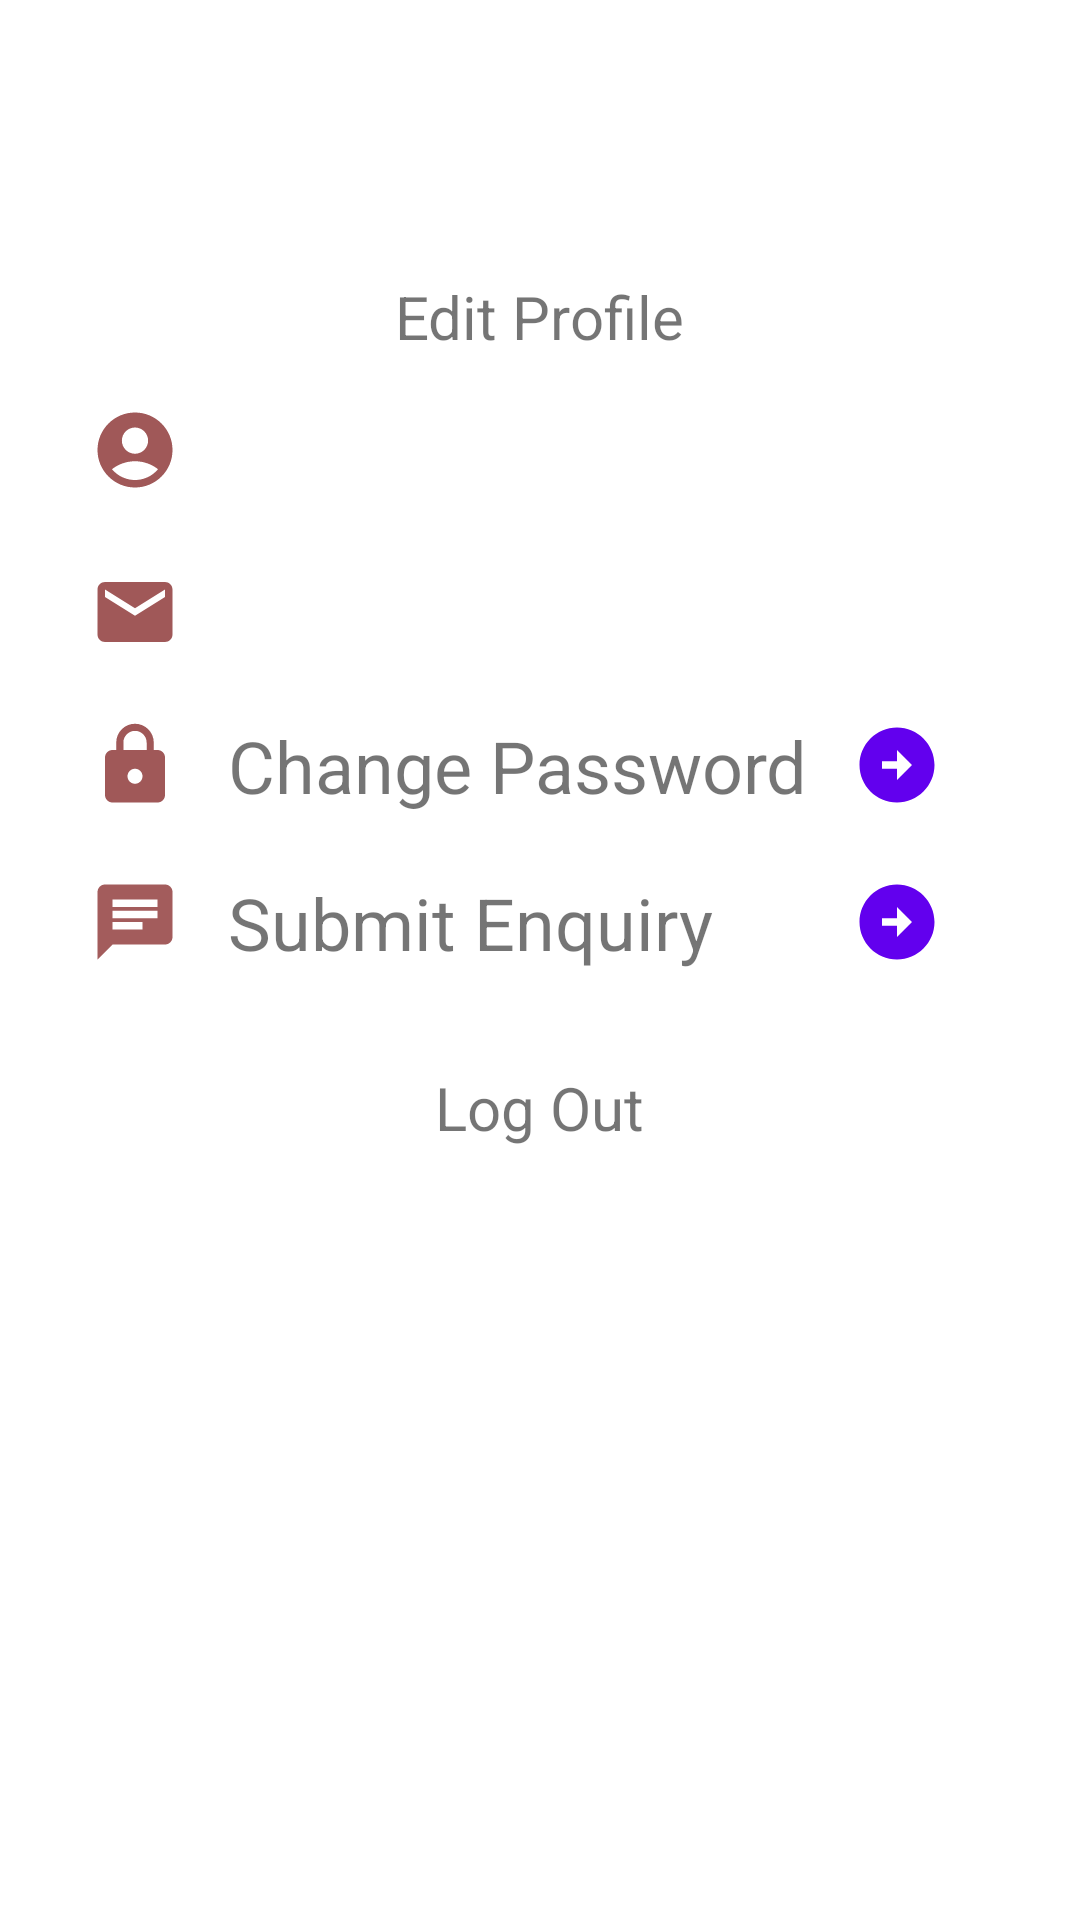

Named icons in this screenshot (1080px×1920px) and their bounding boxes, (x1, y1, x2, y2):
account circle: (97, 412, 173, 488)
arrow circle right: (859, 727, 935, 803), (859, 884, 935, 960)
chat: (97, 884, 173, 960)
email: (97, 582, 173, 642)
lock: (105, 723, 165, 803)
